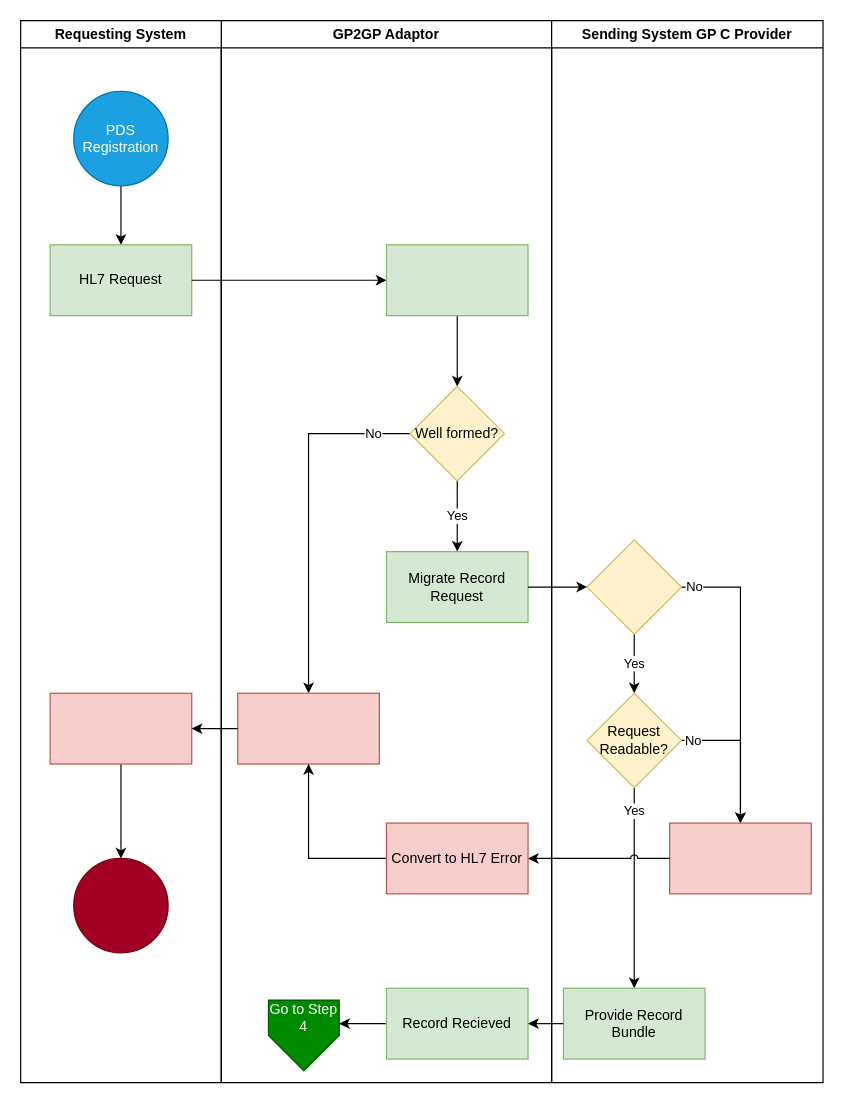
This 844x1103 diagram has some shape labels left out. Each missing label, with the centre of its shape:
End Process: the point at 120,905
HL7 Error Recieved: the point at 120,728
Identity Correct?: the point at 633,586
Provide GP C Error: the point at 739,858
Request recieved: the point at 456,280
Send HL7 Error: the point at 308,728
